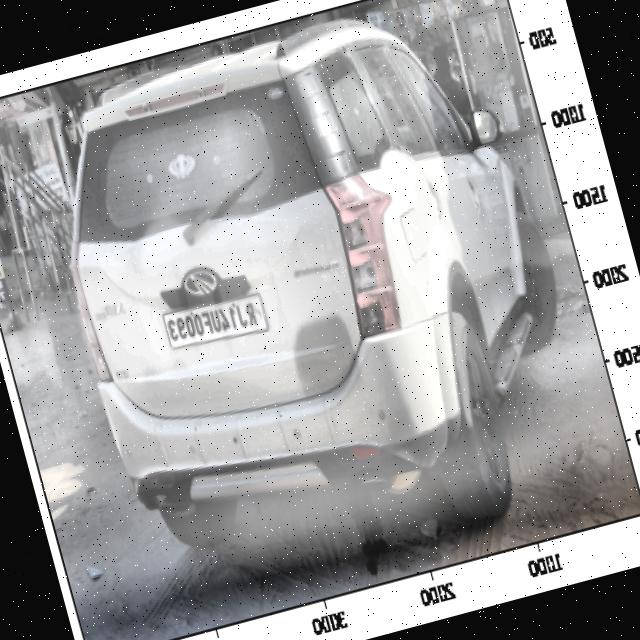license_plate: (161, 288, 264, 355)
